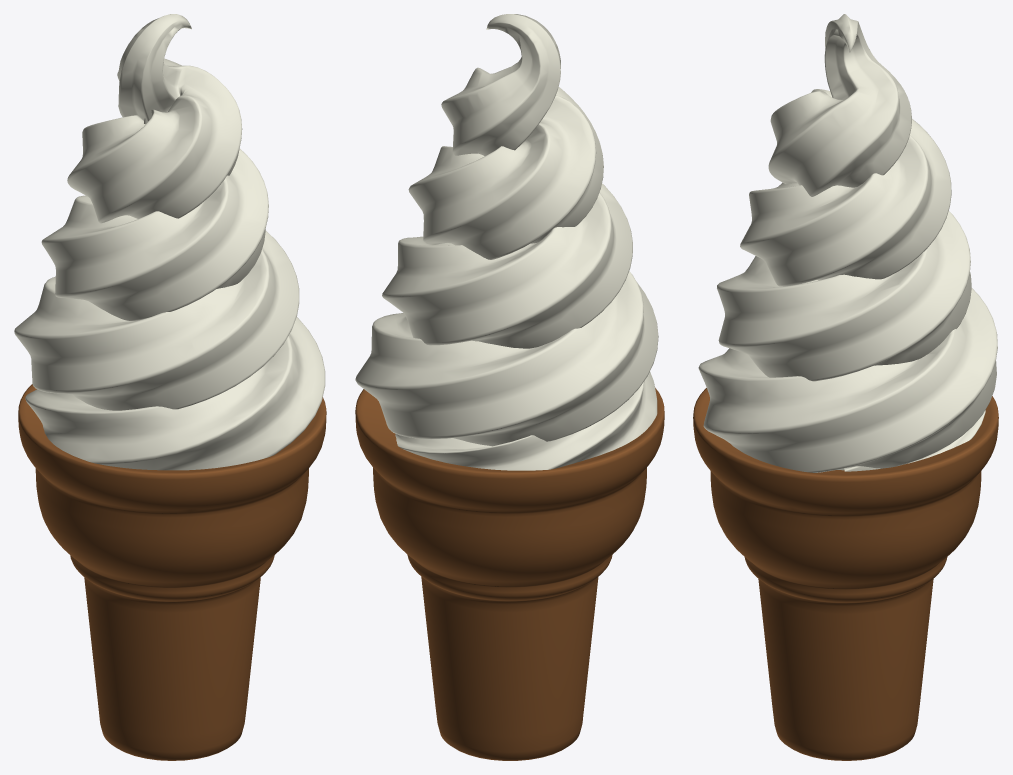
Rendered from ICE_CREAM.fbx.
3 views of the same model, side by side, from view 1: azimuth 30°, elevation 25°; view 2: azimuth 150°, elevation 25°; view 3: azimuth 270°, elevation 25° (orthographic).
Parts seen in each view (by area): view 1: Cream.001; view 2: Cream.001; view 3: Cream.001.
Boxes of the visible parts, <box> form: Cream.001: <box>14,14,326,760</box>; Cream.001: <box>355,14,664,760</box>; Cream.001: <box>693,14,998,760</box>.
Bounding box in the file's own units: 45.18 × 116 × 45.18.
